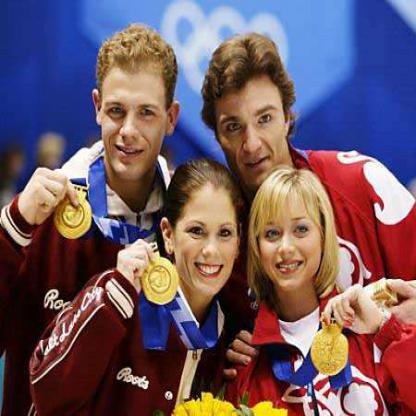face: (216, 45, 288, 190), (102, 34, 169, 181), (174, 165, 239, 300), (259, 175, 324, 295)
